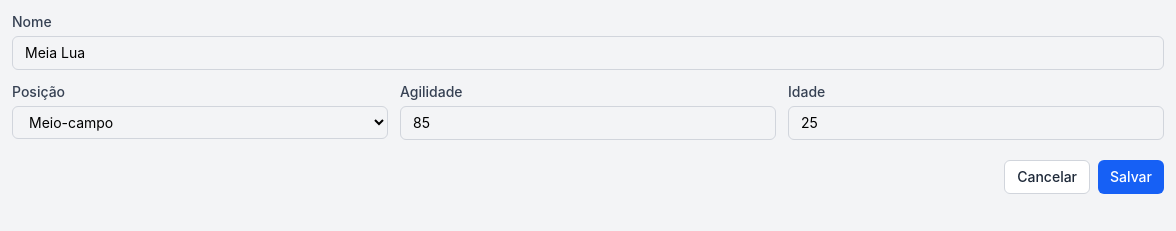
Scenario: PlayerForm › na edição, impede mudar a posição de jogador com clube e diminuir a idade
Expected: the dropdown labelled "Posição" is disabled, [12,106,388,139]
Replace the text in the number field labelled "Idade" with "24". click: [976, 123]
box: [788,106,1164,140]
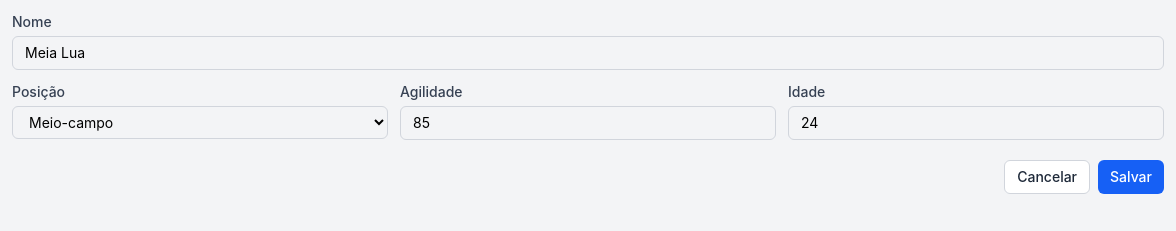
Click the button "Salvar". click: [1131, 177]
box: [1098,160,1164,194]
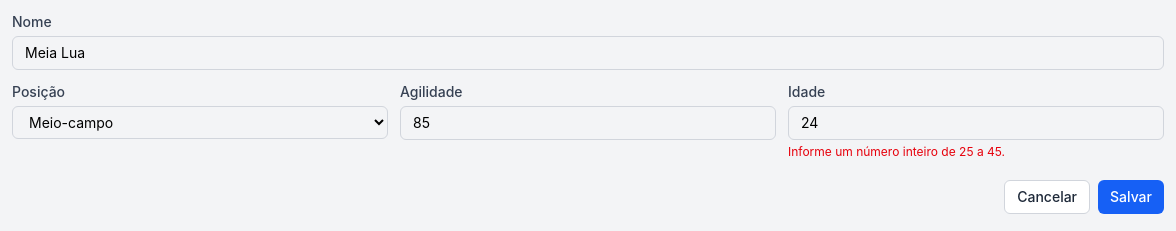
Now the text "Informe um número inteiro de 25 a 45." is shown, box [788,144,1005,159]
